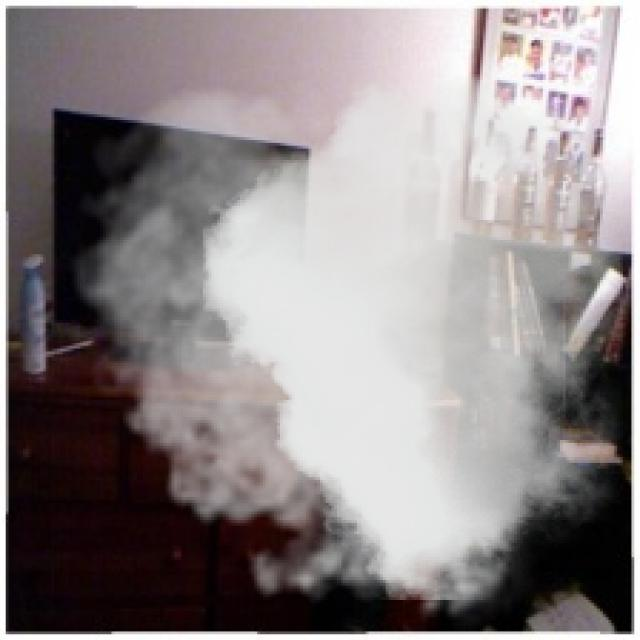smoke: (54, 75, 623, 634)
